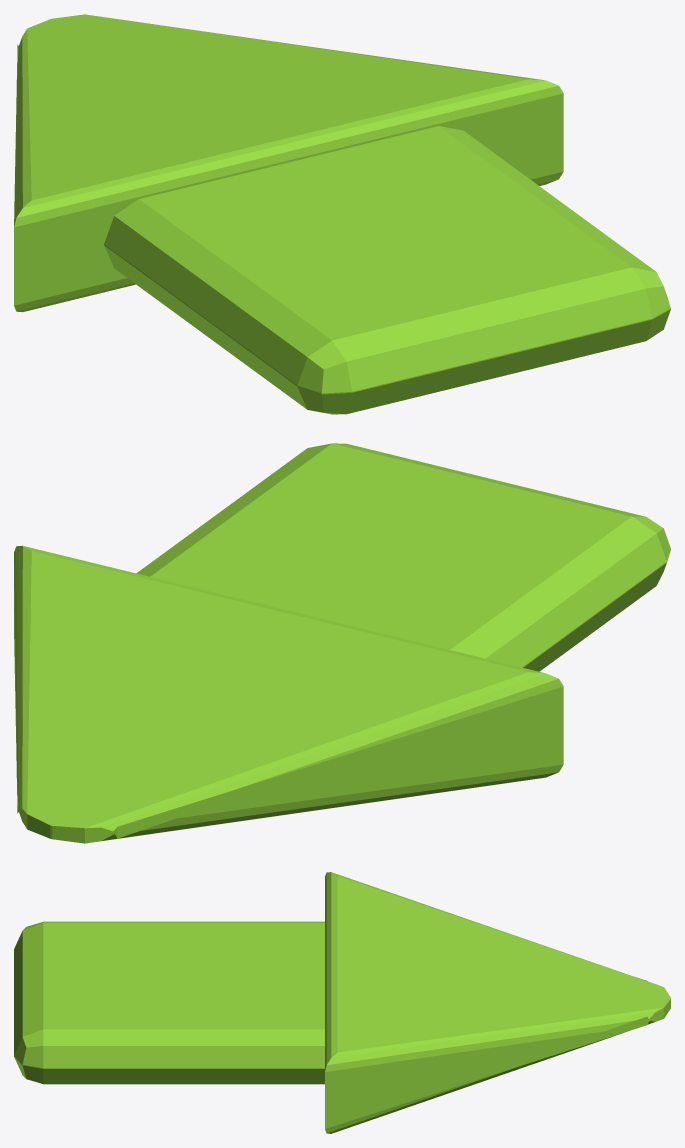
3 renders of one model, top to bottom at view 1: azimuth 30°, elevation 25°; view 2: azimuth 150°, elevation 25°; view 3: azimuth 270°, elevation 25°, orthographic. The views are drawn at different scales.
Visible parts, largest first — view 1: Plane; view 2: Plane; view 3: Plane.
Boxes of the visible parts, box(x1,y1,x2,y2) form: Plane: box(14, 14, 670, 414); Plane: box(14, 443, 670, 843); Plane: box(14, 872, 670, 1133).
Bounding box in the file's own units: 108 × 20.05 × 154.
